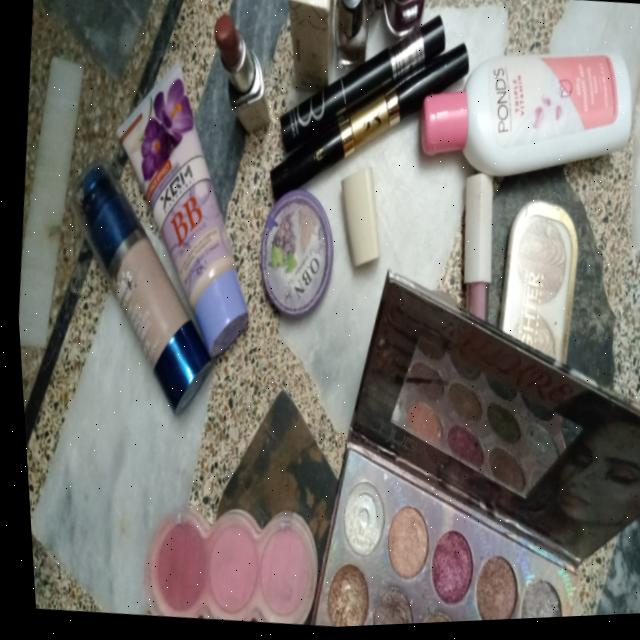bb cream: (14, 46, 261, 417)
highlighter: (300, 431, 607, 630)
kajal: (227, 175, 348, 327)
lip shade: (118, 482, 323, 634)
lotion: (392, 0, 640, 243)
mascara: (236, 0, 485, 228)
